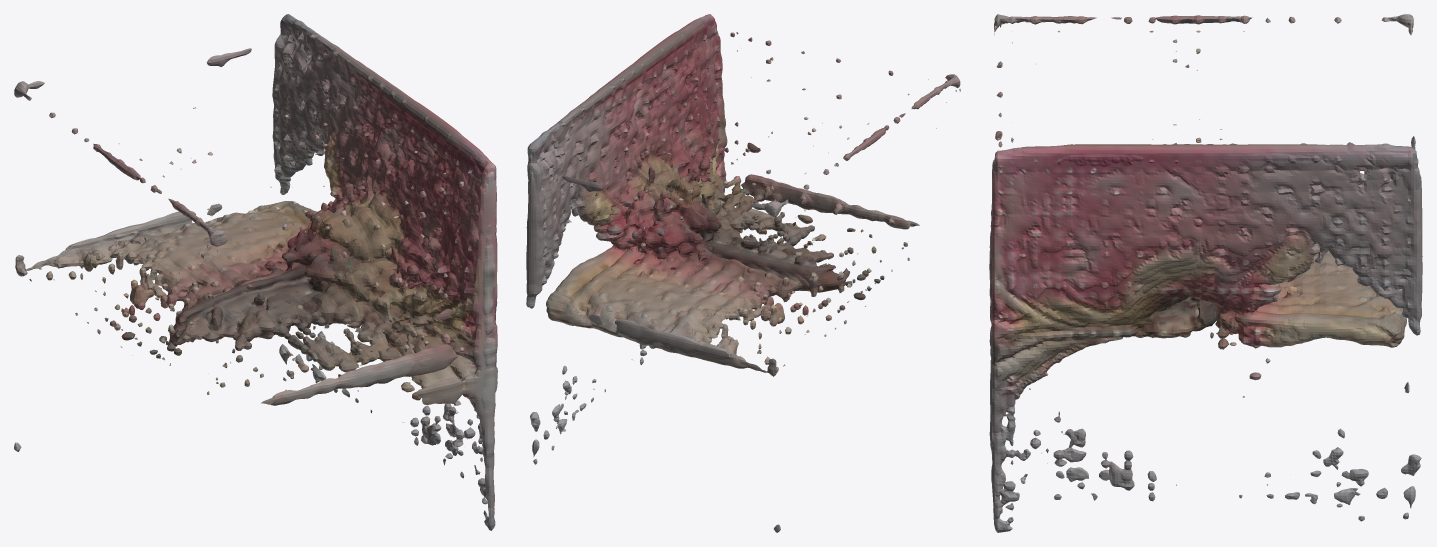
3 views of the same model, side by side, from view 1: azimuth 30°, elevation 25°; view 2: azimuth 150°, elevation 25°; view 3: azimuth 270°, elevation 25° (orthographic). The views are drawn at different scales.
Parts seen in each view (by area): view 1: geometry_0; view 2: geometry_0; view 3: geometry_0.
Boxes of the visible parts, <box> form: geometry_0: <box>14,14,497,530</box>; geometry_0: <box>526,14,960,532</box>; geometry_0: <box>989,14,1422,532</box>.
Bounding box in the file's own units: 0.8048 × 0.9937 × 1.01.
